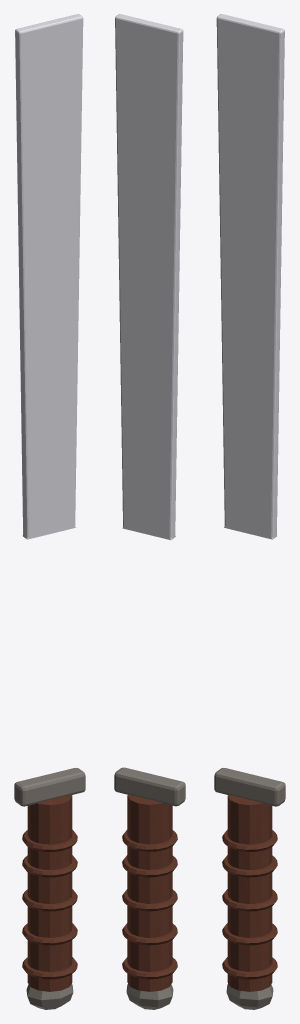
File: falchion.fbx
The picture shows the model from 3 angles, left to right: view 1: azimuth 30°, elevation 25°; view 2: azimuth 150°, elevation 25°; view 3: azimuth 330°, elevation 25°; orthographic projection.
Parts seen in each view (by area): view 1: falchion; view 2: falchion; view 3: falchion.
Boxes of the visible parts, x1,y1,x2,y2 form: falchion: (14,14,85,1009); falchion: (114,14,185,1009); falchion: (214,14,285,1009).
Size of the model in its own units: 0.04 by 0.5798 by 0.03.
Materials: 3 (1 with a texture image).
